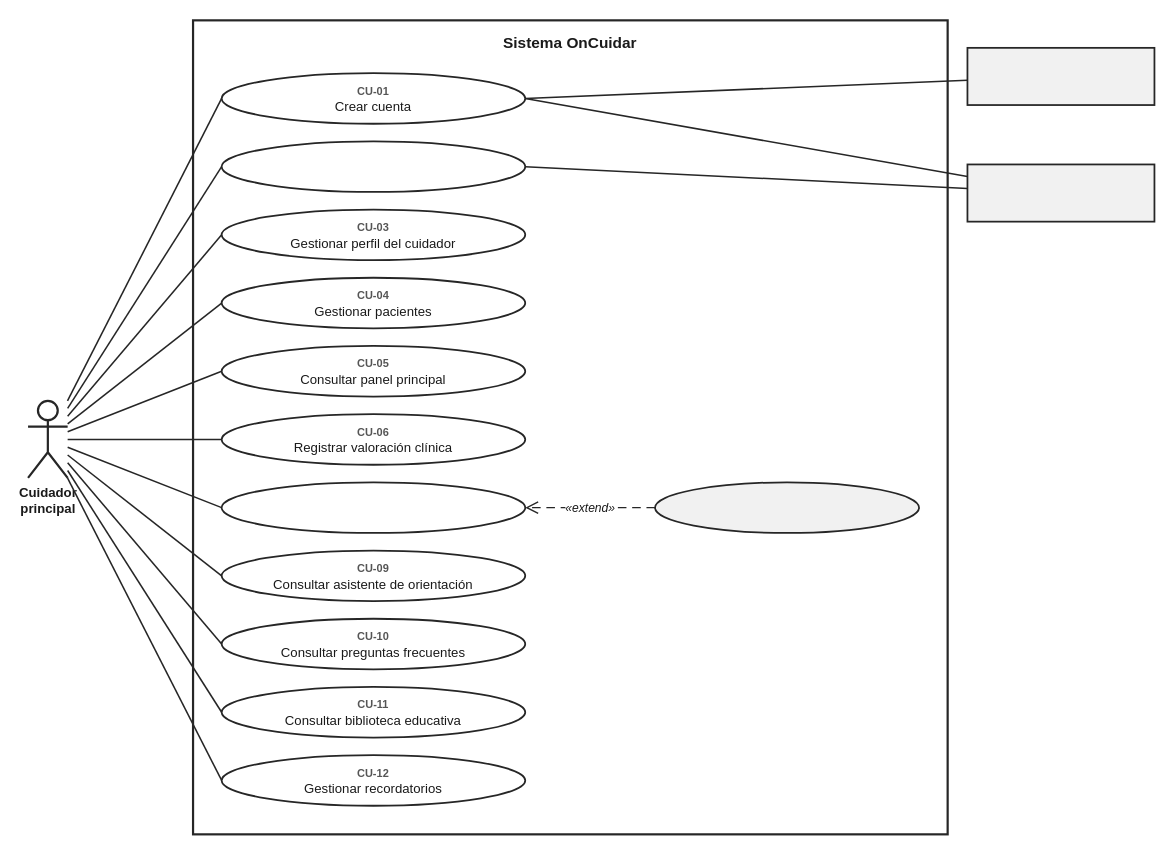
Some shapes in this 1175 by 854 pixel diagram are drawn without their labels. Each missing label, with the centre of its shape:
"CU-02 Iniciar sesión" belongs at (x=373, y=166).
"CU-07 Consultar historial" belongs at (x=373, y=507).
"CU-08 Exportar historial" belongs at (x=786, y=507).
"«sistema externo» Servicio de correo (SMTP)" belongs at (x=1060, y=75).
"«sistema externo» Servidor de OnCuidar (API)" belongs at (x=1060, y=192).
